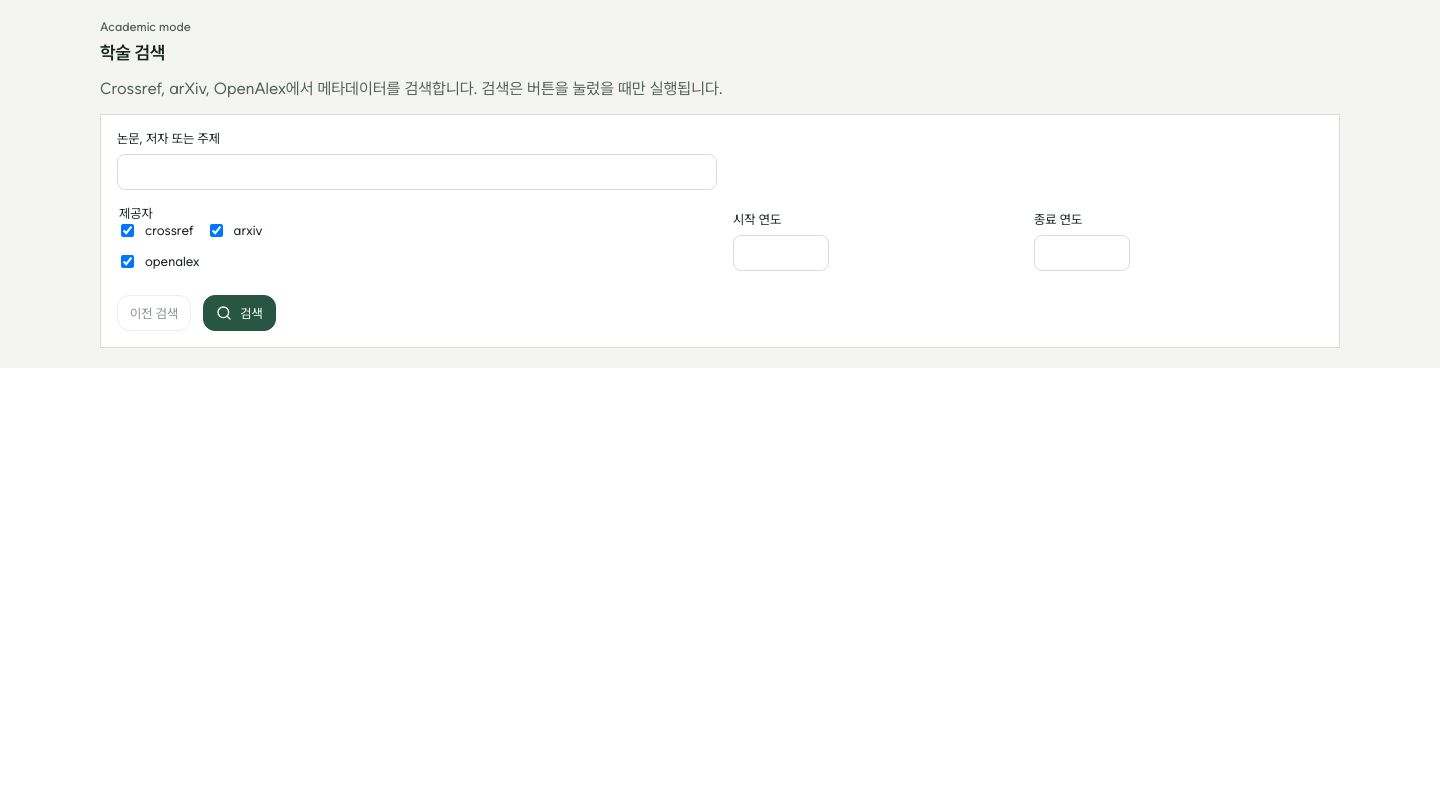
Test case: SearchView › cancels a deferred search when a newer request supersedes it
The width and height of the screenshot is (1440, 810).
Type "first" into the search field.
click(417, 172); type("first")  # box [117,154,717,190]
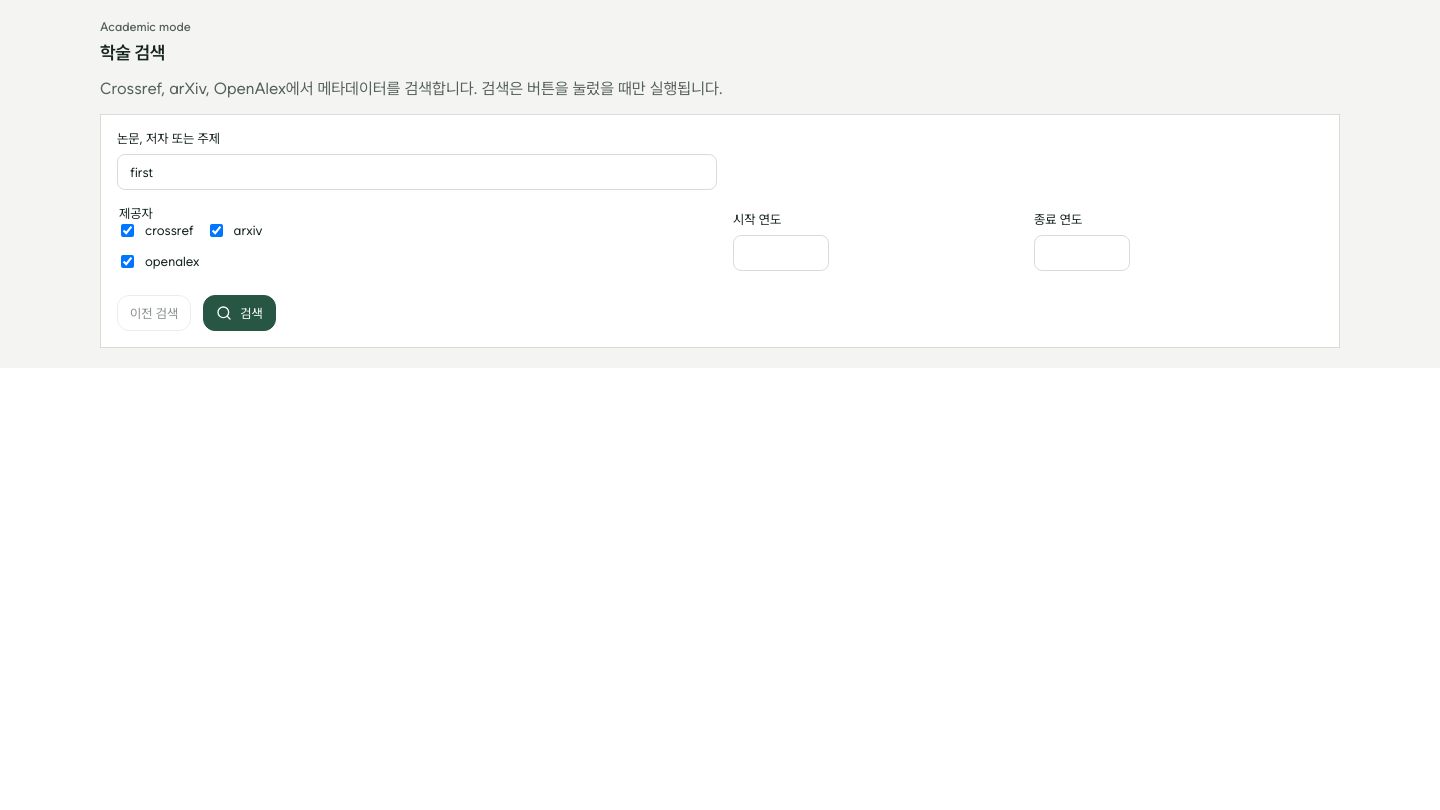
Submit the form, box [100,114,1340,348]
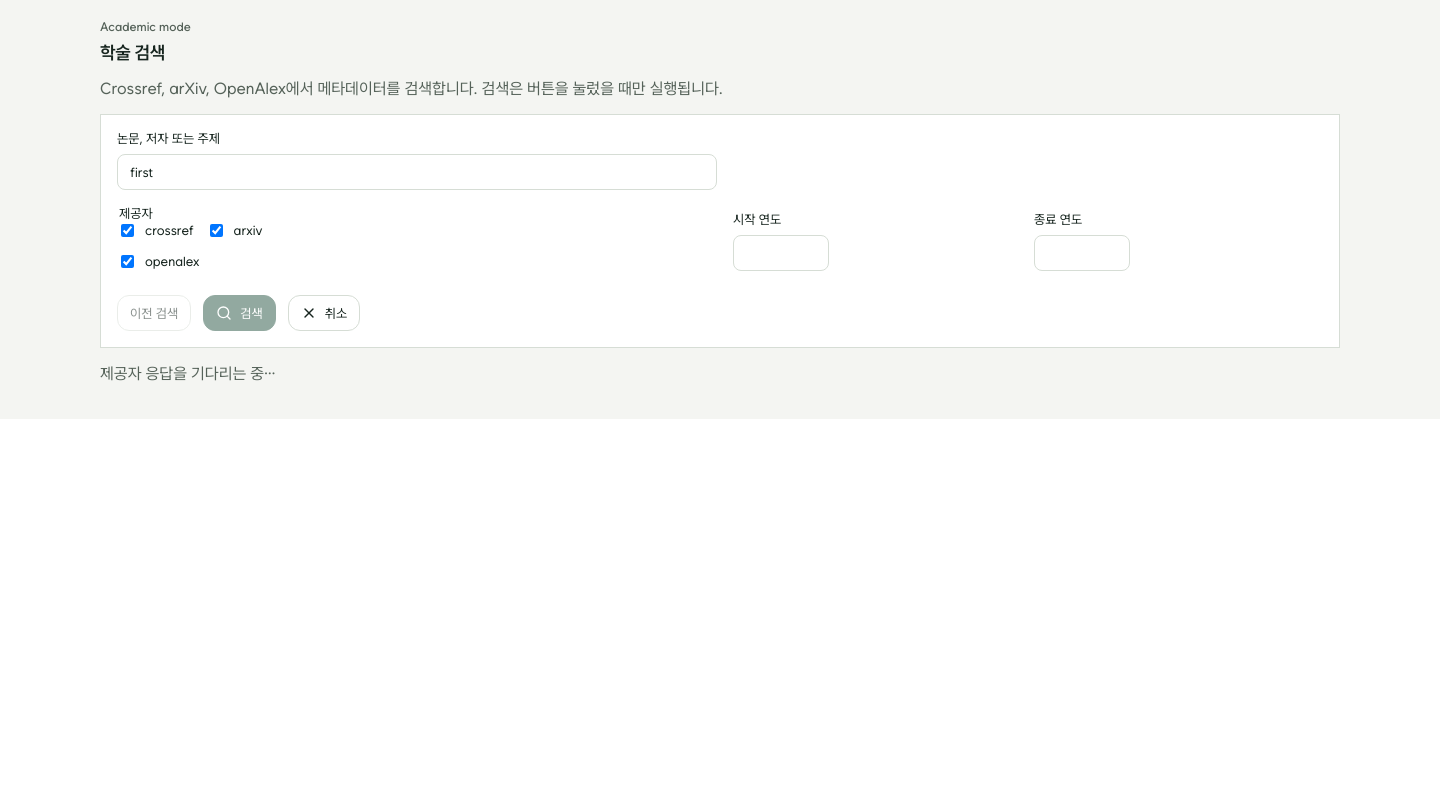
Replace the text in the search field with "second" at (417, 172), box [117,154,717,190]
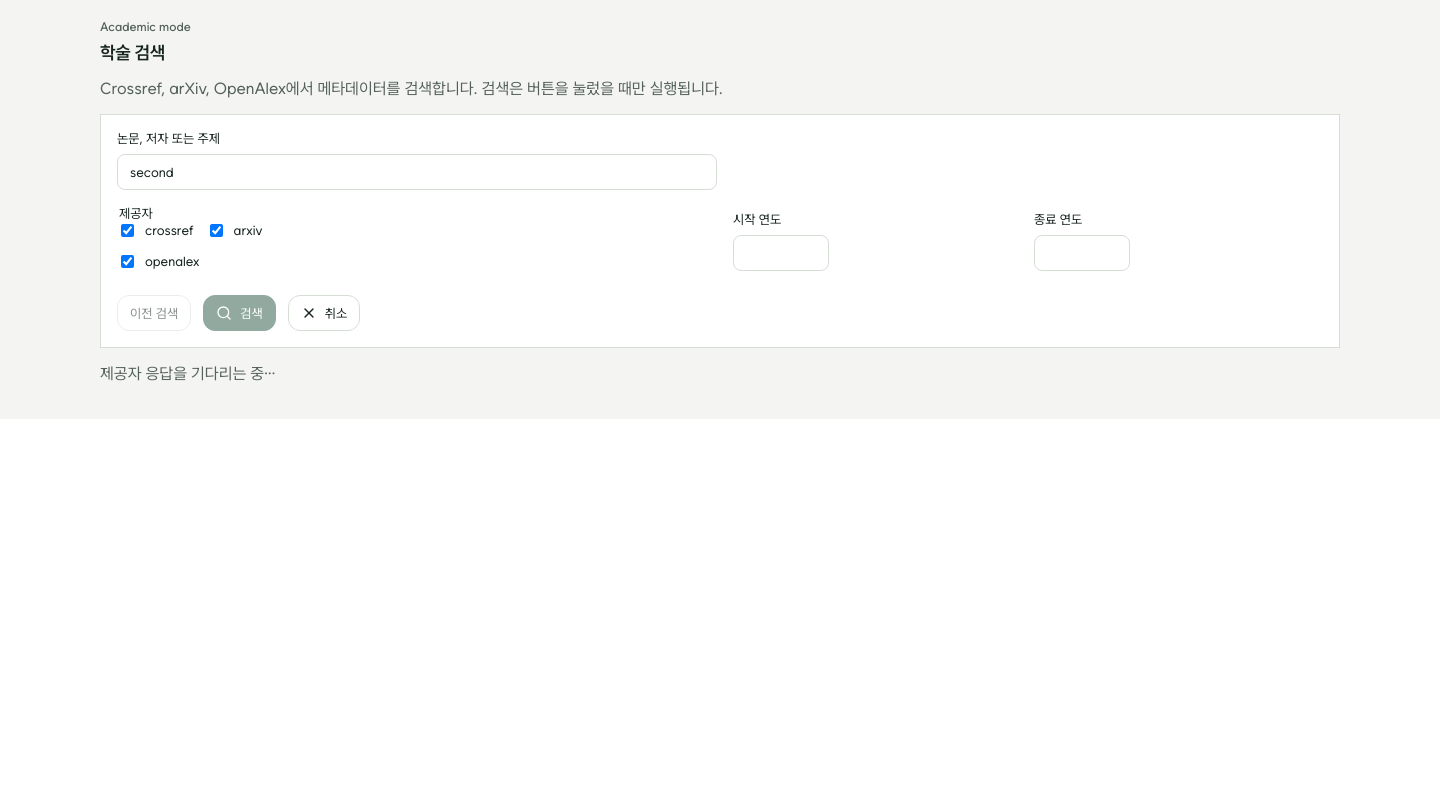
Submit the form, box [100,114,1340,348]
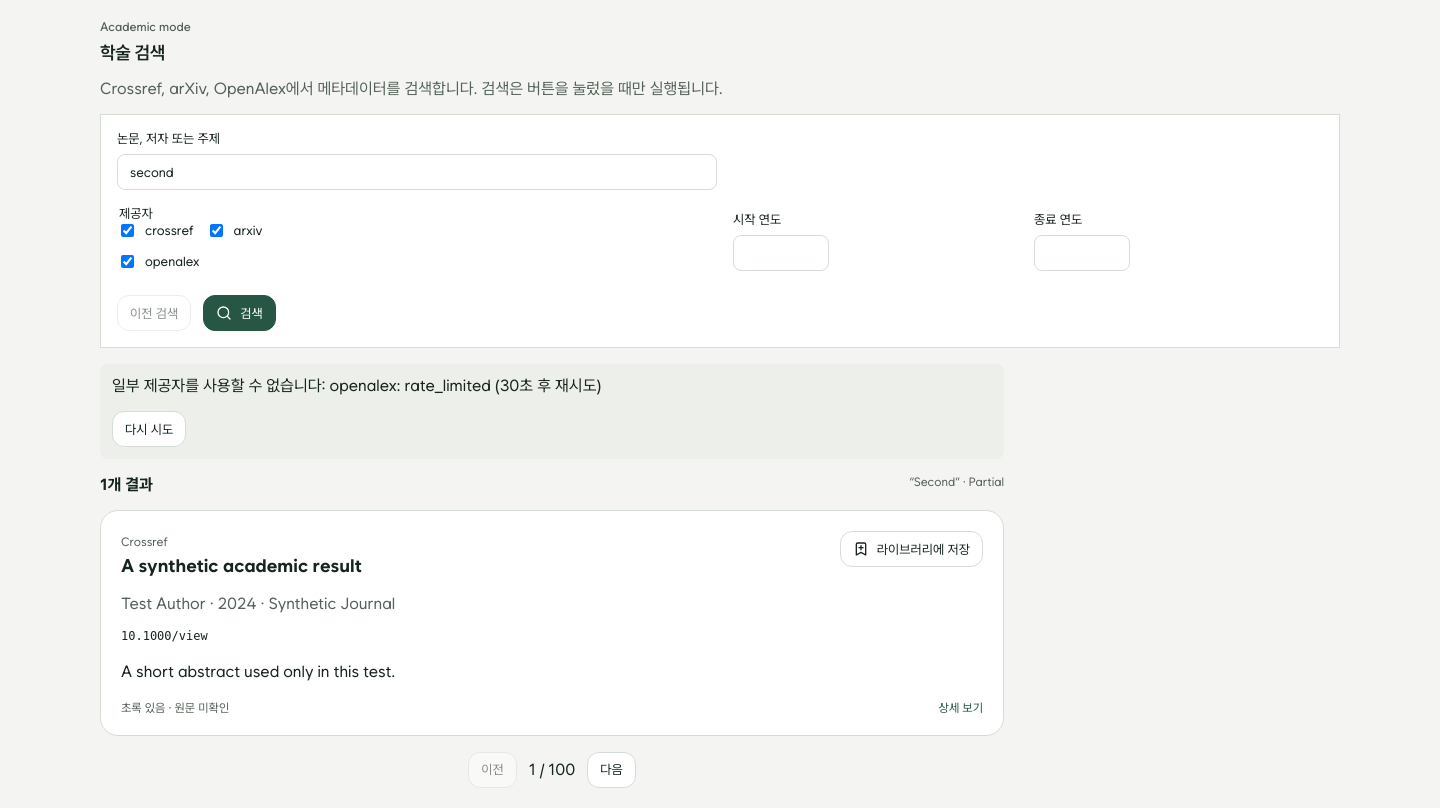
Result: the heading "A synthetic academic result" is shown at [121,554,362,578]
